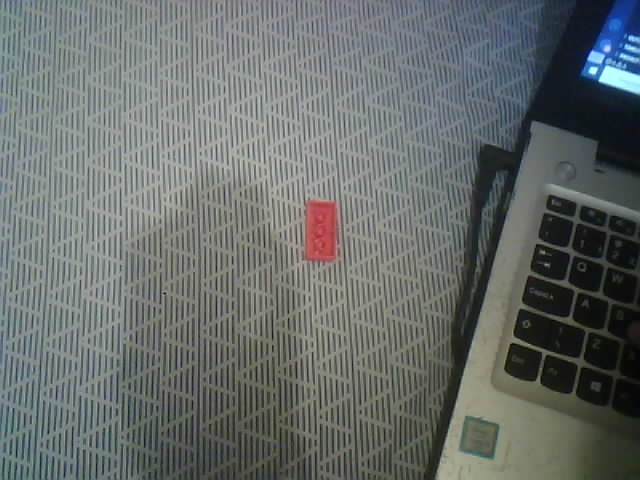lego: (305, 199, 338, 260)
